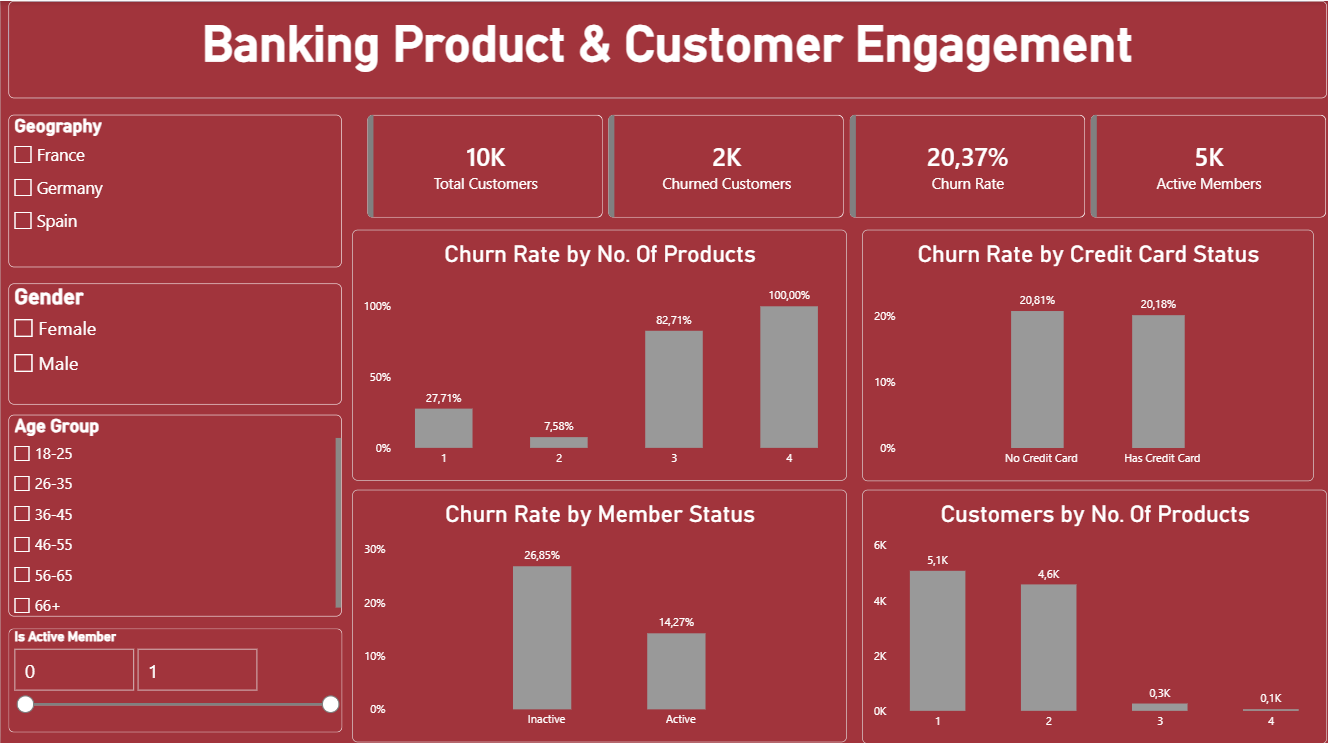

Layout of this report page (visuals, bound fields, positions):
{"tool":"powerbi","page":{"name":"Banking Product & Customer Engagement","canvas":[1920,1080],"ordinal":2},"visuals":[{"type":"textbox","box":[10.8,0,1908.8,279.2],"z":0},{"type":"shape","box":[10.8,0,1908.8,140.7],"z":1000},{"type":"textbox","box":[10.8,0,1908.8,140.7],"z":2000},{"type":"cardVisual","fields":{"Data":["churn.Total Customers","churn.Churned Customers","churn.Churn Rate","churn.Active Members"]},"box":[530.2,164.5,1389.4,149.3],"z":3000},{"type":"clusteredColumnChart","fields":{"Category":["churn.No. Of Products"],"Y":["churn.Churn Rate"]},"box":[508.6,331.1,716.3,363.6],"z":4000},{"type":"clusteredColumnChart","fields":{"Category":["churn.Credit Card Status"],"Y":["churn.Churn Rate"]},"box":[1246.9,331.2,653.3,363.7],"z":5000},{"type":"clusteredColumnChart","title":" Customers by No. Of Products","fields":{"Category":["churn.No. Of Products"],"Y":["churn.Total Customers"]},"box":[1246.5,707.7,673,367.9],"z":6000},{"type":"slicer","fields":{"Values":["churn.Geography"]},"box":[10.8,164.5,482.6,220.7],"z":7000},{"type":"slicer","fields":{"Values":["churn.Gender"]},"box":[10.8,409,482.6,175.3],"z":8000},{"type":"slicer","fields":{"Values":["churn.Age Group"]},"box":[10.8,599.5,482.6,292.2],"z":9000},{"type":"slicer","fields":{"Values":["churn.Is Active Member"]},"box":[10.8,908.9,483,150],"z":10000},{"type":"clusteredColumnChart","fields":{"Category":["churn.Member Status"],"Y":["churn.Churn Rate"]},"box":[508.6,707.7,716.3,365.7],"z":11000}]}

Visuals, with their boxes in screenshot pixels (x1, y1, x2, y2), scaled from the page's 1920x1080 canvas onto the 1328x743 screenshot:
textbox: (left=7, top=0, right=1327, bottom=192)
shape: (left=7, top=0, right=1327, bottom=97)
textbox: (left=7, top=0, right=1327, bottom=97)
cardVisual - churn.Total Customers x churn.Churned Customers: (left=367, top=113, right=1327, bottom=216)
clusteredColumnChart - churn.No. Of Products x churn.Churn Rate: (left=352, top=228, right=847, bottom=478)
clusteredColumnChart - churn.Credit Card Status x churn.Churn Rate: (left=862, top=228, right=1314, bottom=478)
" Customers by No. Of Products" clusteredColumnChart: (left=862, top=487, right=1327, bottom=740)
slicer - churn.Geography: (left=7, top=113, right=341, bottom=265)
slicer - churn.Gender: (left=7, top=281, right=341, bottom=402)
slicer - churn.Age Group: (left=7, top=412, right=341, bottom=613)
slicer - churn.Is Active Member: (left=7, top=625, right=342, bottom=728)
clusteredColumnChart - churn.Member Status x churn.Churn Rate: (left=352, top=487, right=847, bottom=738)
